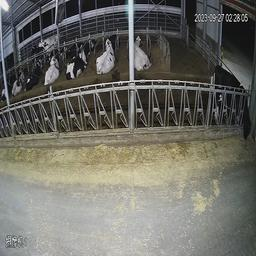cow: (209, 56, 254, 143), (92, 34, 119, 77), (63, 43, 90, 80), (133, 28, 154, 75), (37, 27, 63, 55), (41, 52, 61, 87), (22, 60, 41, 90), (10, 65, 23, 97)
